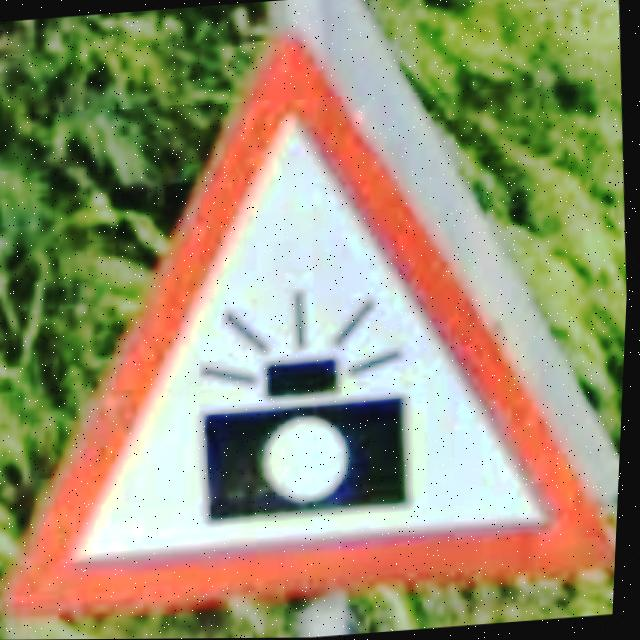speedcamera: (11, 33, 616, 617)
